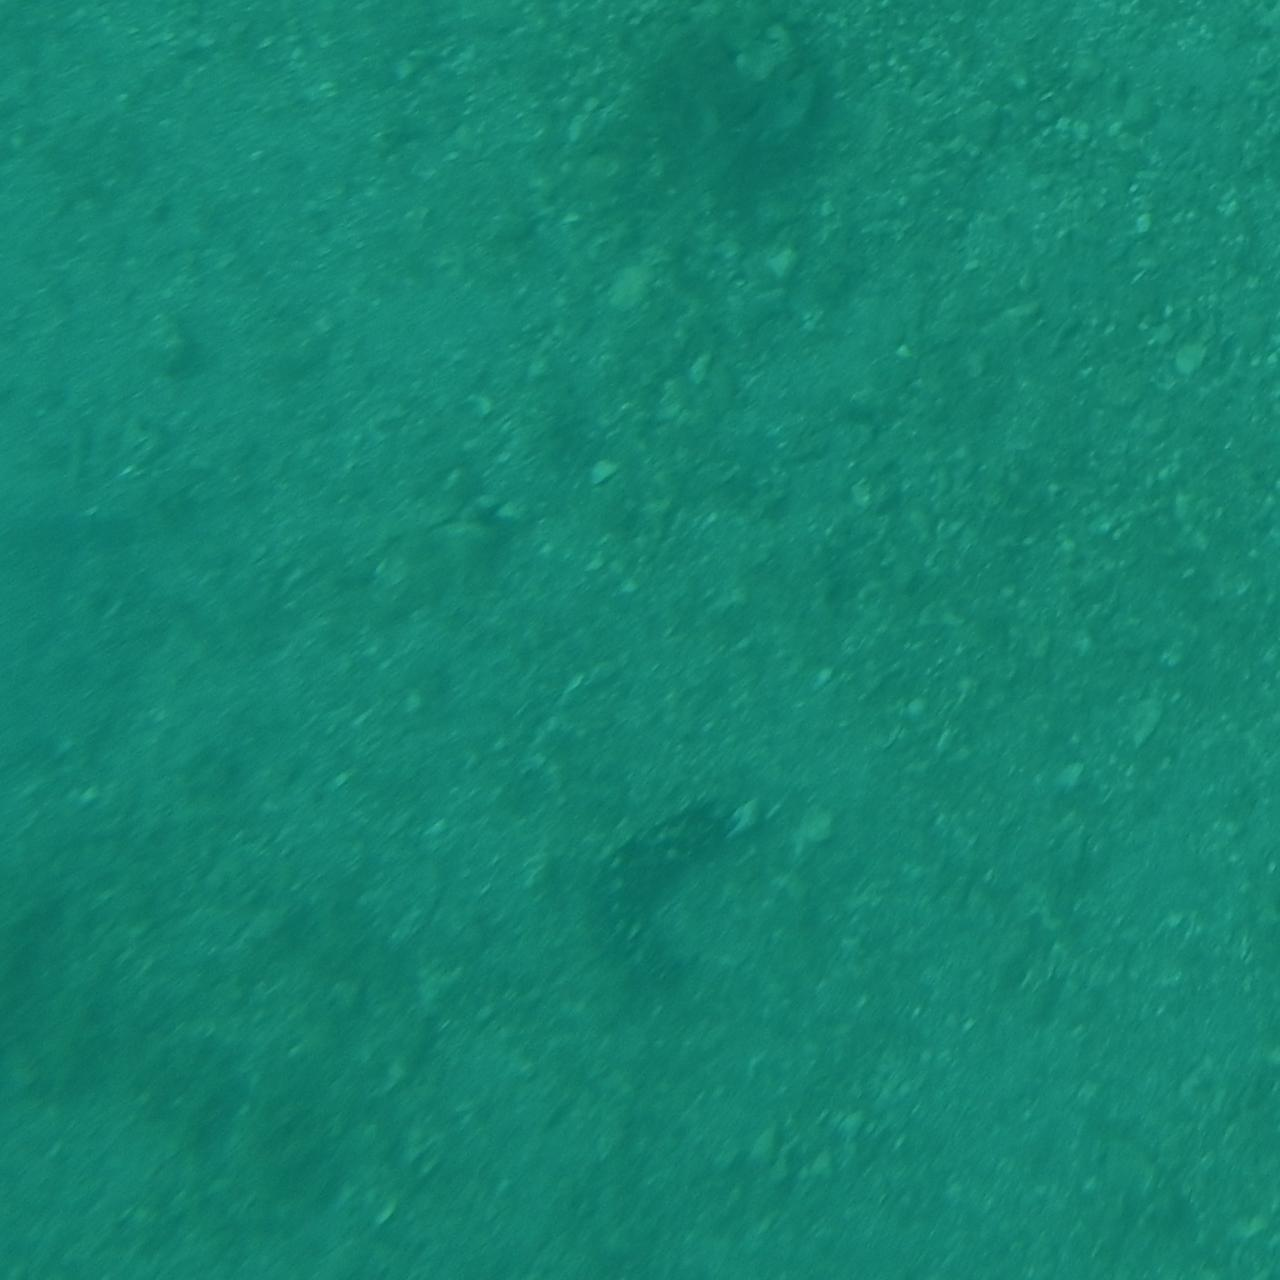Holothuria tubulosa: (527, 765, 753, 994)
